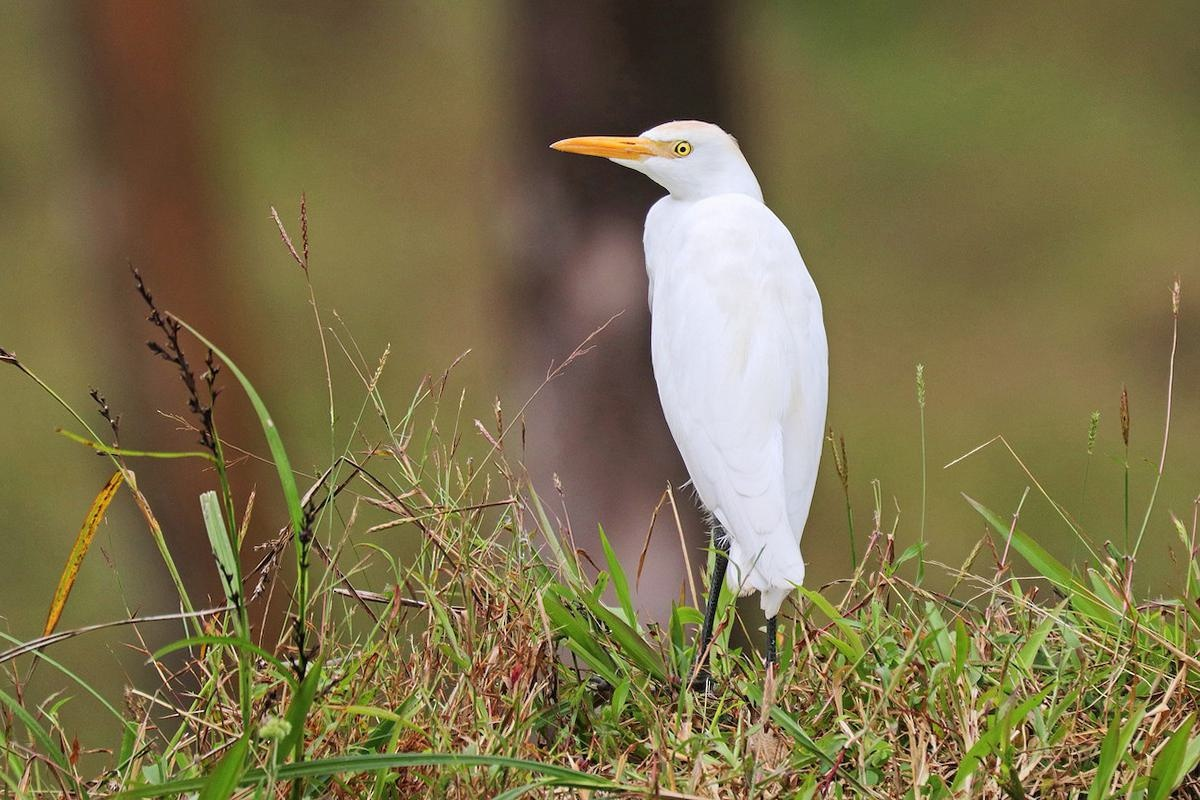egret: (530, 106, 856, 644)
